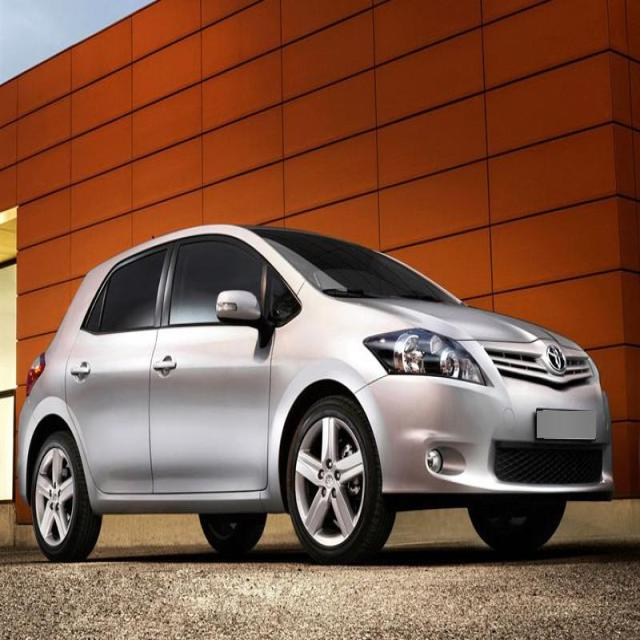back_right_side_light: (25, 348, 48, 400)
door: (66, 232, 168, 506)
front_bumper: (353, 370, 616, 499)
front_glass: (244, 223, 463, 306)
front_right_side_door: (146, 231, 278, 500)
front_right_side_light: (362, 324, 491, 392)
front_right_side_mirror: (215, 286, 263, 330)
wheel: (286, 398, 394, 559), (28, 427, 102, 560), (467, 498, 569, 553)
